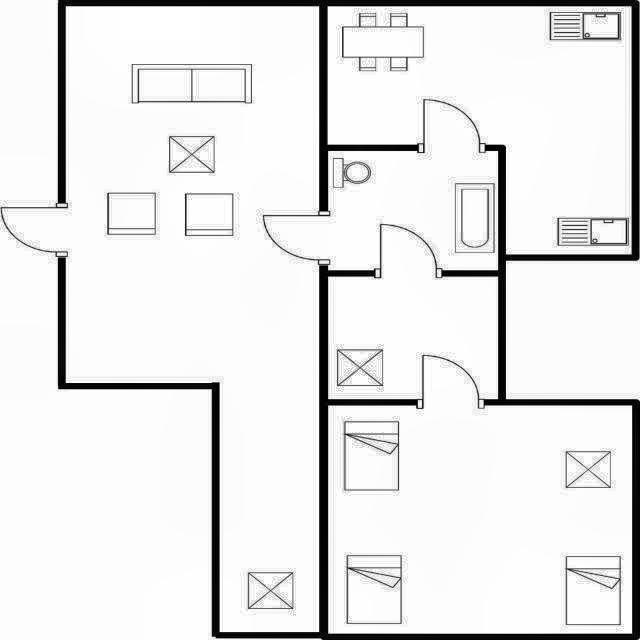room: (66, 6, 319, 632), (327, 6, 632, 255), (328, 405, 632, 634), (328, 276, 498, 399), (328, 151, 498, 270)
